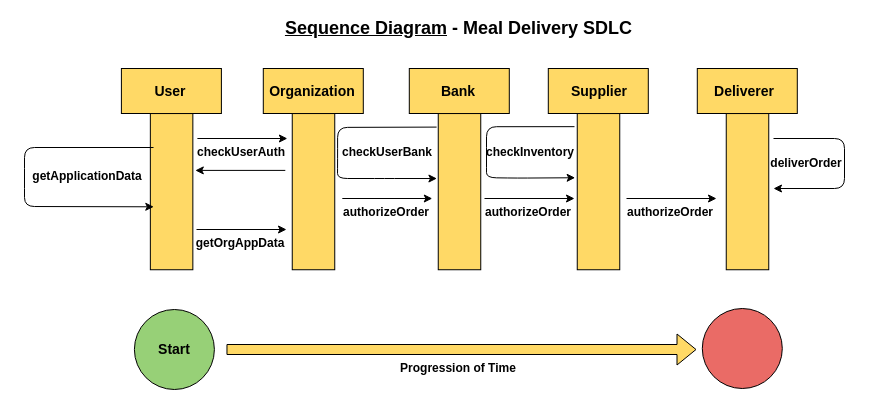
Some shapes in this 870 by 407 pixel diagram are drawn without their labels. The box of each missing label's shape, as (x1, y1, x2, y2) in pixels:
authUserAccess: (291, 113, 335, 270)
End: (701, 308, 782, 388)
